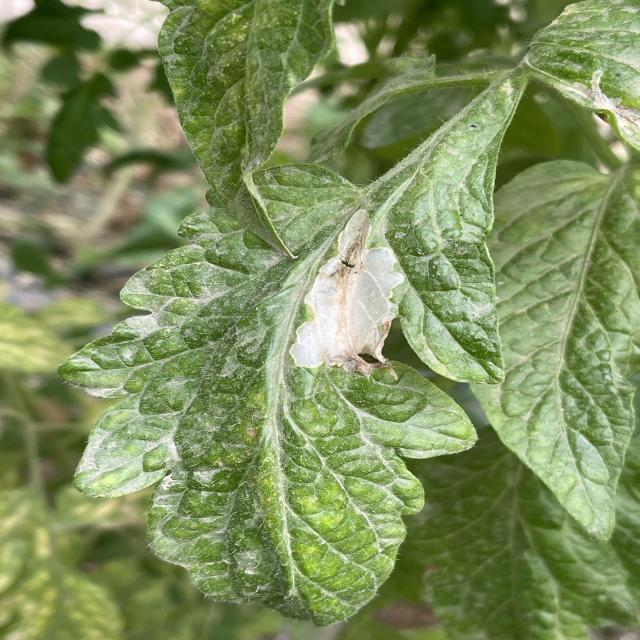Tuta absoluta: (287, 200, 425, 388)
